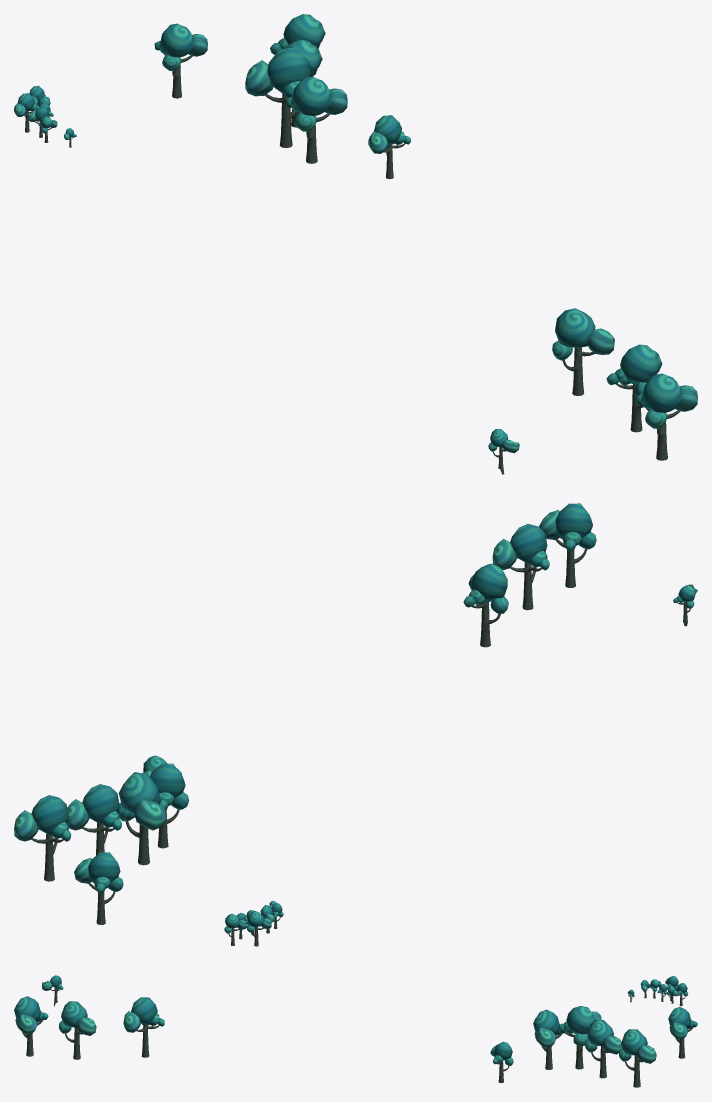
File: treeC.fbx
3 views of the same model, one above another, from view 1: azimuth 30°, elevation 25°; view 2: azimuth 150°, elevation 25°; view 3: azimuth 270°, elevation 25° (orthographic). The views are drawn at different scales.
Parts seen in each view (by area): view 1: treeC; view 2: treeC; view 3: treeC.
Boxes of the visible parts, x1=… form: treeC: x1=14, y1=14, x2=697, y2=474; treeC: x1=14, y1=503, x2=697, y2=946; treeC: x1=14, y1=975, x2=697, y2=1087.
Size of the model in its own units: 1589 by 500 by 4921.
